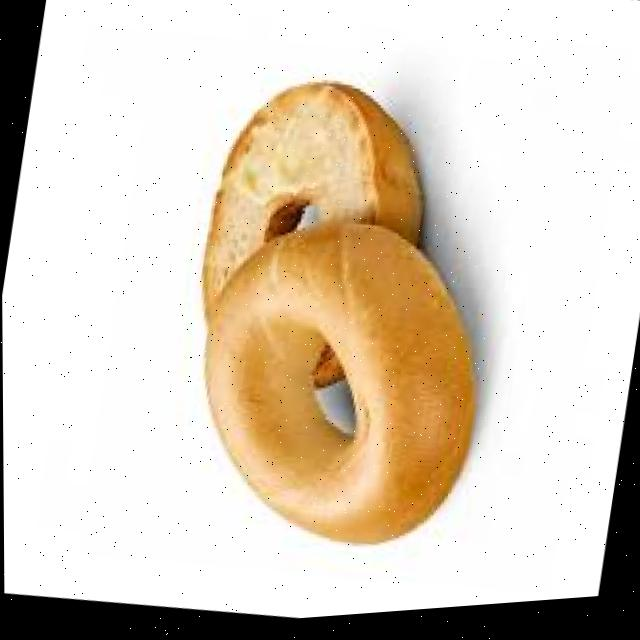Bagel: (205, 228, 472, 548), (202, 90, 421, 316)
